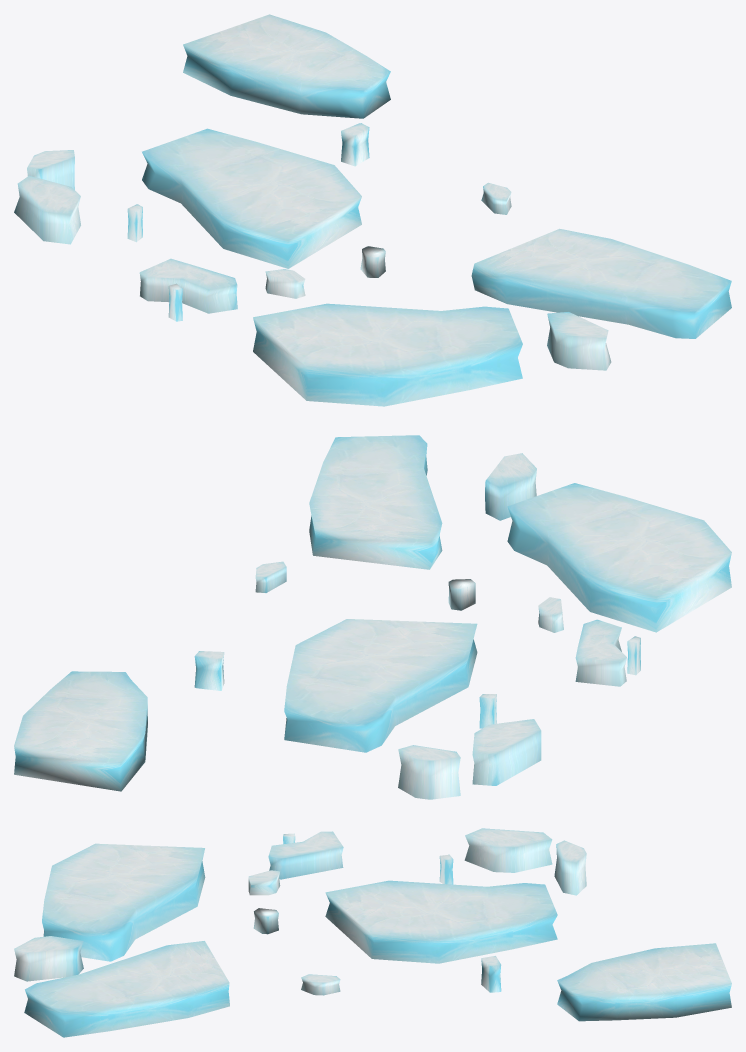
Rendered from dragonblight_shoreline_ice_01.obj.
3 renders of one model, top to bottom at view 1: azimuth 30°, elevation 25°; view 2: azimuth 150°, elevation 25°; view 3: azimuth 270°, elevation 25°, orthographic. The views are drawn at different scales.
Visible parts, largest first — view 1: dragonblight_shoreline_ice_01; view 2: dragonblight_shoreline_ice_01; view 3: dragonblight_shoreline_ice_01.
Part boxes in pixels (x1,y1,x2,y2): dragonblight_shoreline_ice_01: (14,14,731,406); dragonblight_shoreline_ice_01: (14,435,731,799); dragonblight_shoreline_ice_01: (14,828,731,1037).
Size of the model in its own units: 6.56 by 0.5436 by 10.64.
1 material, 1 textured.
